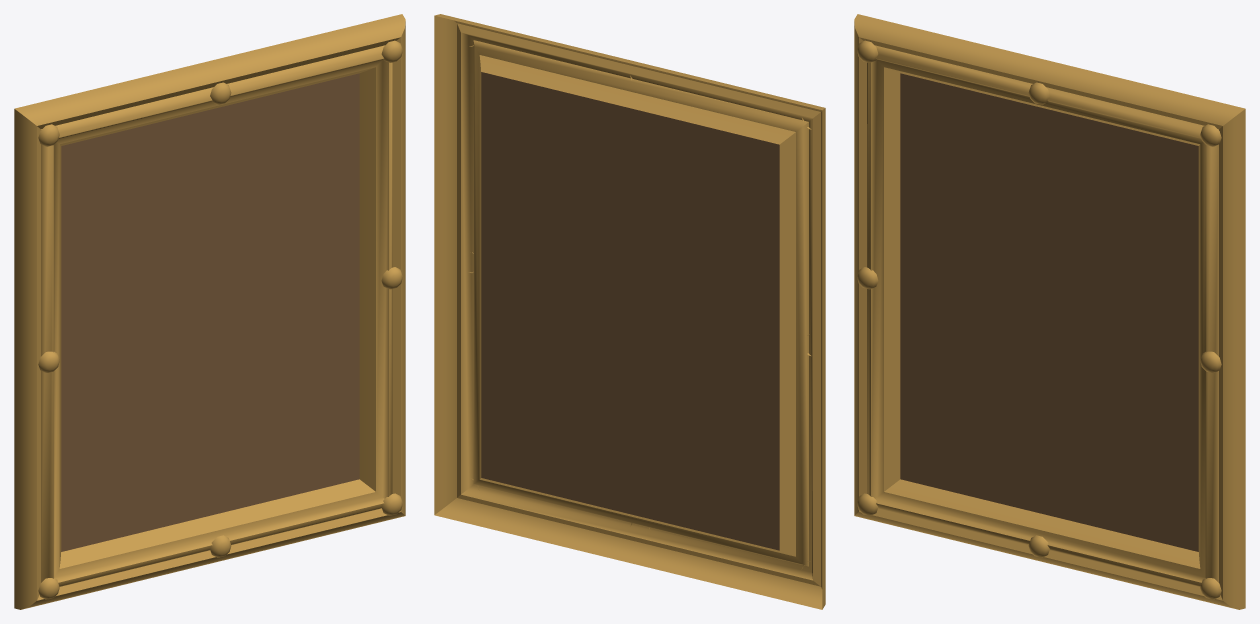
The model's file is frame_1x1_3.glb.
3 renders of one model, left to right at view 1: azimuth 30°, elevation 25°; view 2: azimuth 150°, elevation 25°; view 3: azimuth 330°, elevation 25°, orthographic.
Parts seen in each view (by area): view 1: frame_1x1_3_canvas, frame_1x1_3_frame; view 2: frame_1x1_3_canvas, frame_1x1_3_frame; view 3: frame_1x1_3_canvas, frame_1x1_3_frame.
Boxes of the visible parts, bbox=[...] form: frame_1x1_3_canvas: bbox=[61, 73, 359, 551]; frame_1x1_3_frame: bbox=[14, 14, 405, 609]; frame_1x1_3_canvas: bbox=[481, 72, 779, 550]; frame_1x1_3_frame: bbox=[434, 14, 825, 609]; frame_1x1_3_canvas: bbox=[900, 73, 1198, 551]; frame_1x1_3_frame: bbox=[854, 14, 1245, 609].
Size of the model in its own units: 1.3 by 1.6 by 0.093.
